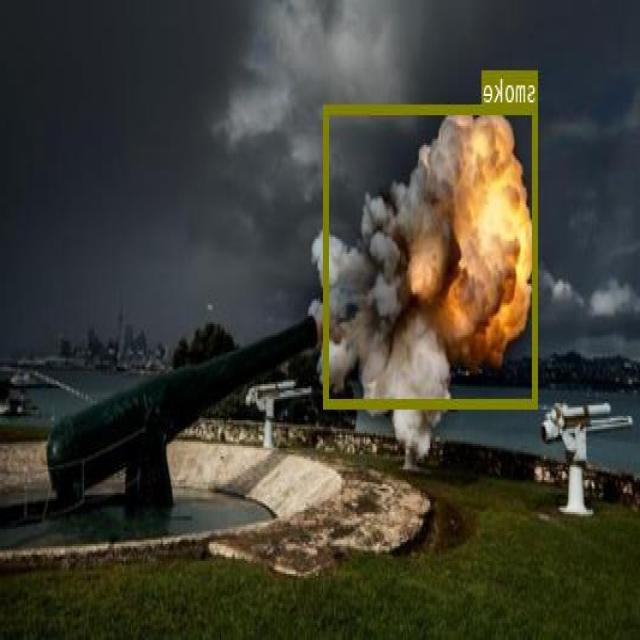smoke: (324, 103, 538, 406)
